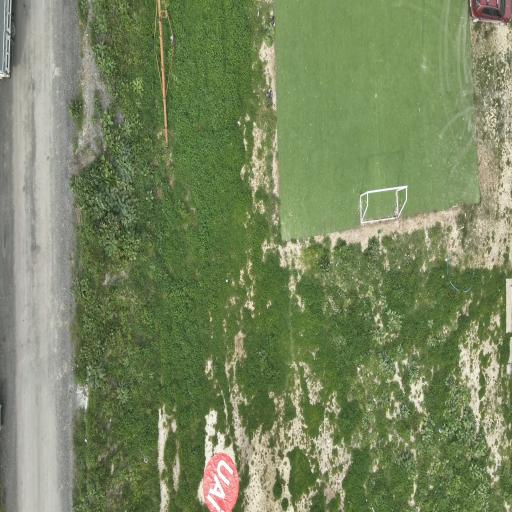UAI: (203, 453, 238, 511)
car: (0, 0, 14, 78), (470, 0, 511, 25)
